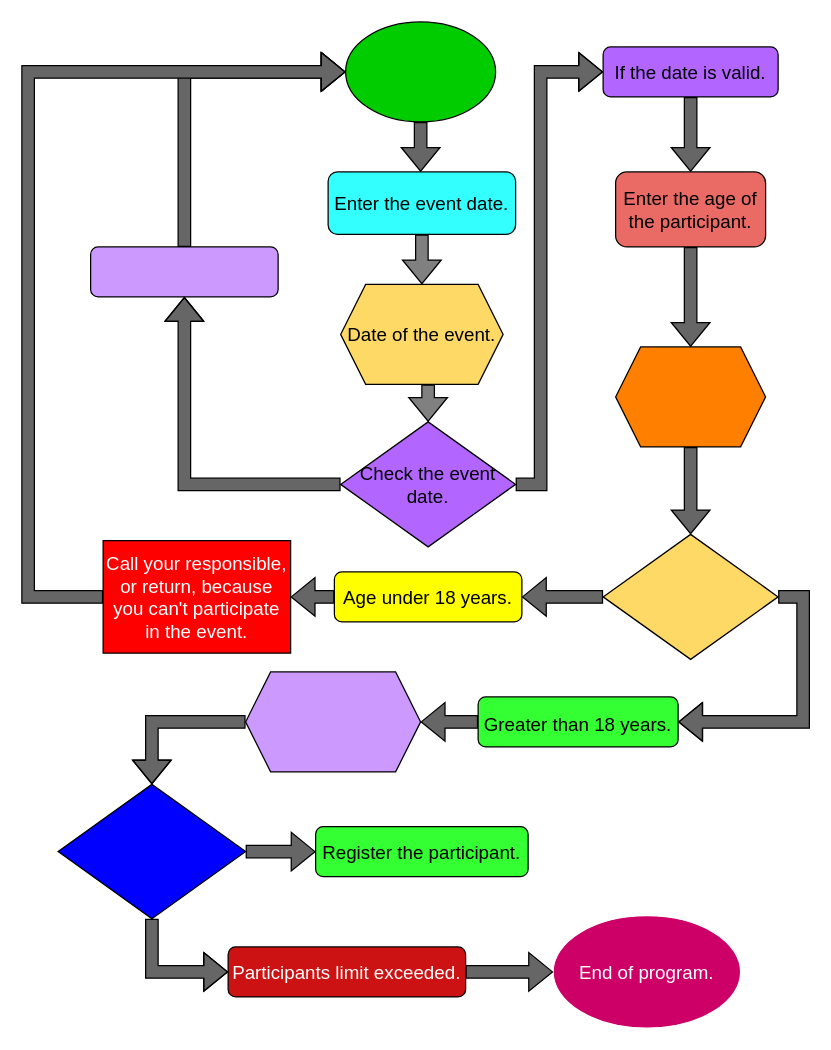
This 831x1050 diagram has some shape labels left out. Here are the shapes that lost their labels. From the top down, the centre of each, then its label:
At point 420,71: "Start".
At point 183,271: "If the date is invalid.".
At point 690,396: "Age".
At point 690,596: "Check this age.".
At point 332,721: "List of participants.".
At point 151,851: "As long as the amount is less than 100.".
